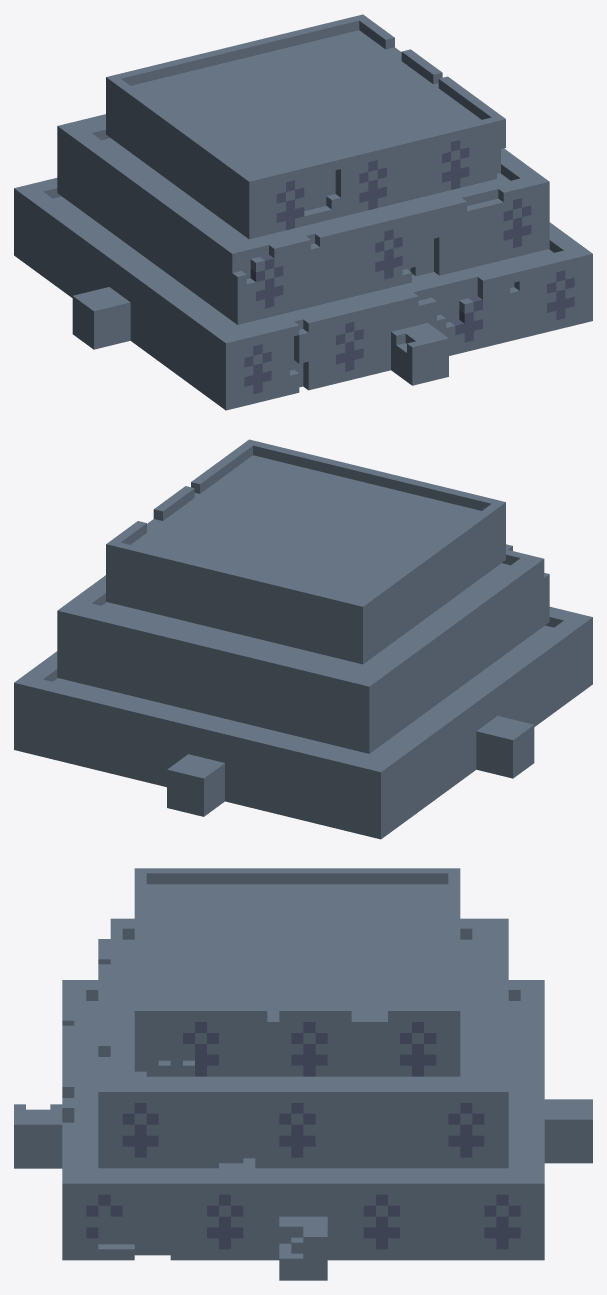
Rendered from Anubis_75-2.obj.
The picture shows the model from 3 angles, top to bottom: view 1: azimuth 30°, elevation 25°; view 2: azimuth 150°, elevation 25°; view 3: azimuth 270°, elevation 25°; orthographic projection. The views are drawn at different scales.
Size of the model in its own units: 4.8 by 2 by 4.8.
Materials: 1 (1 with a texture image).
